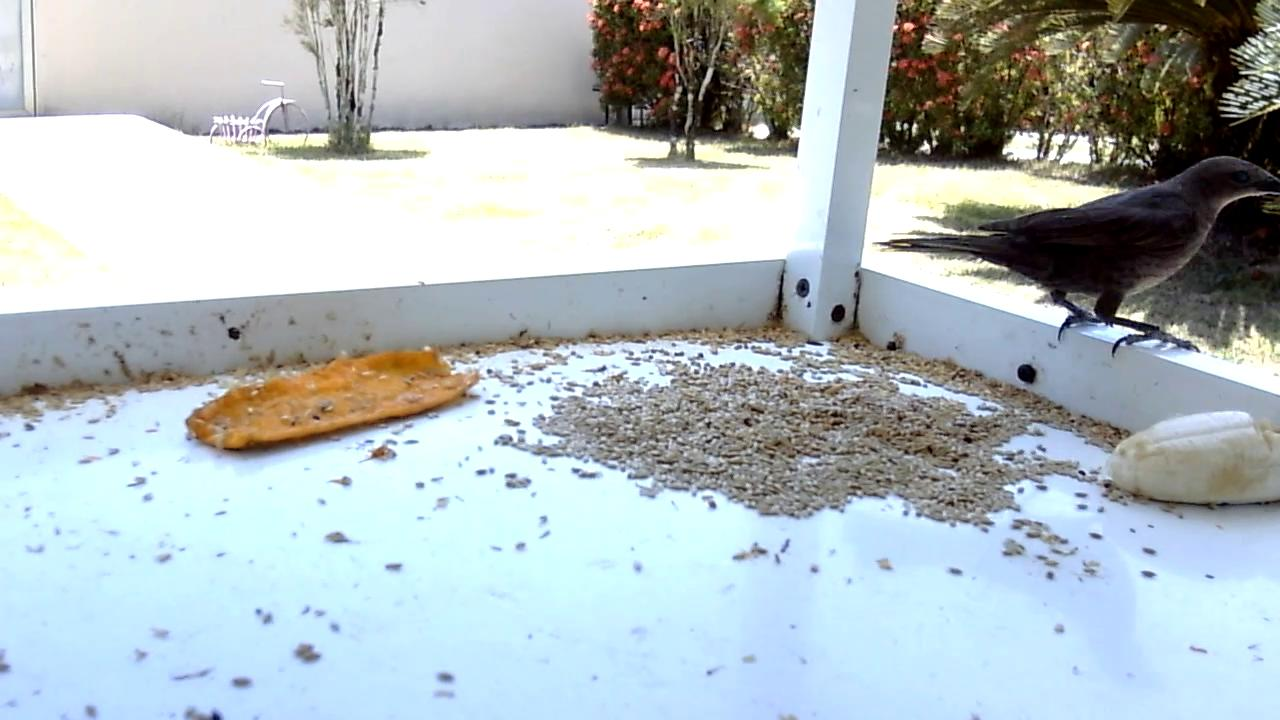chupim: (870, 153, 1280, 362)
